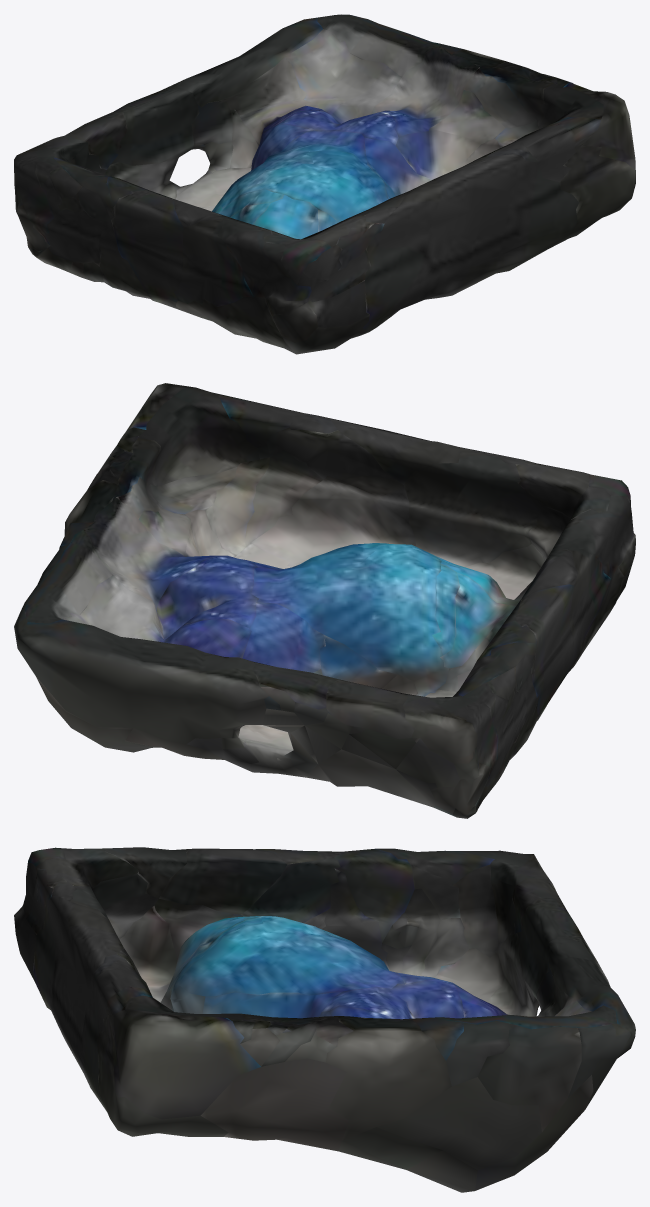
Rendered from hall.glb.
3 views of the same model, one above another, from view 1: azimuth 30°, elevation 25°; view 2: azimuth 150°, elevation 25°; view 3: azimuth 270°, elevation 25° (orthographic). The views are drawn at different scales.
Bounding box in the file's own units: 0.7053 × 0.2951 × 0.7176.
1 material, 1 textured.
